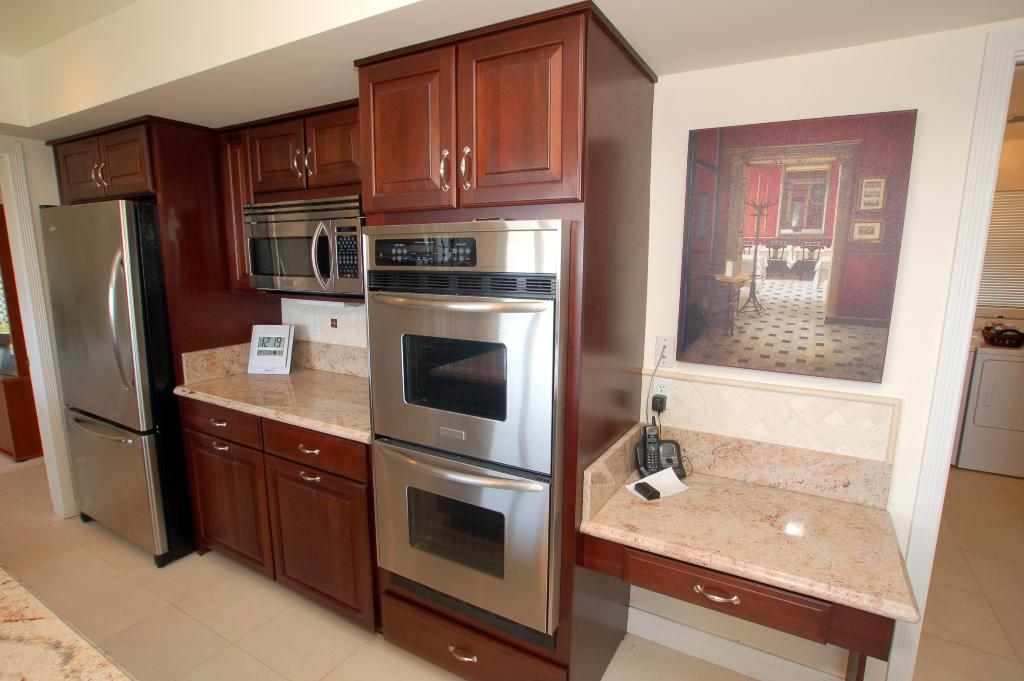cabinet door: (463, 60, 568, 194), (361, 70, 452, 204), (276, 472, 356, 590), (638, 563, 826, 613), (199, 450, 270, 556), (397, 620, 529, 671), (250, 125, 302, 185), (301, 124, 355, 181), (102, 137, 147, 200), (51, 142, 99, 200), (187, 409, 260, 442), (289, 445, 356, 471)
handle: (383, 450, 525, 493), (109, 247, 142, 396), (387, 295, 534, 326), (433, 637, 490, 671), (686, 579, 743, 610), (308, 226, 328, 290), (78, 425, 130, 445), (458, 148, 477, 191), (434, 148, 450, 196), (292, 470, 326, 490), (200, 438, 228, 456), (203, 412, 230, 428), (95, 163, 114, 185), (291, 444, 321, 457), (290, 150, 303, 179), (307, 149, 318, 179), (88, 158, 98, 185)
refrigerator door: (36, 206, 145, 417), (66, 428, 158, 526)
